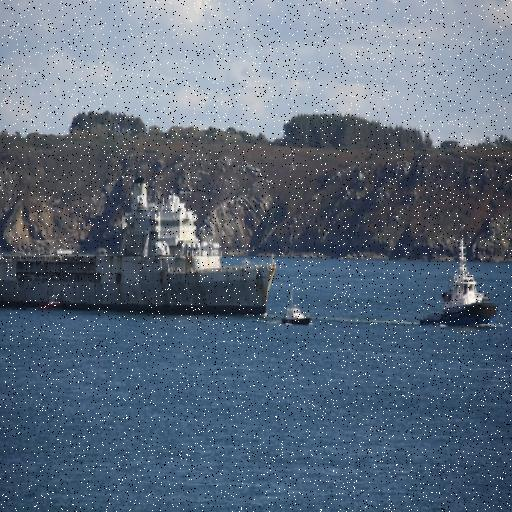Portanaves: (1, 166, 283, 313)
